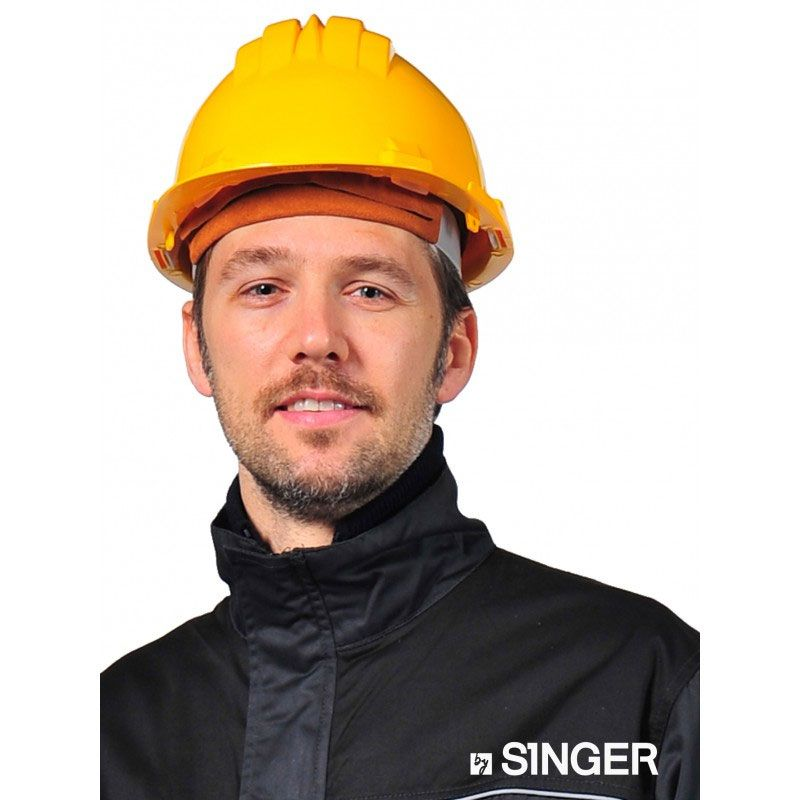casque: (74, 3, 643, 667)
